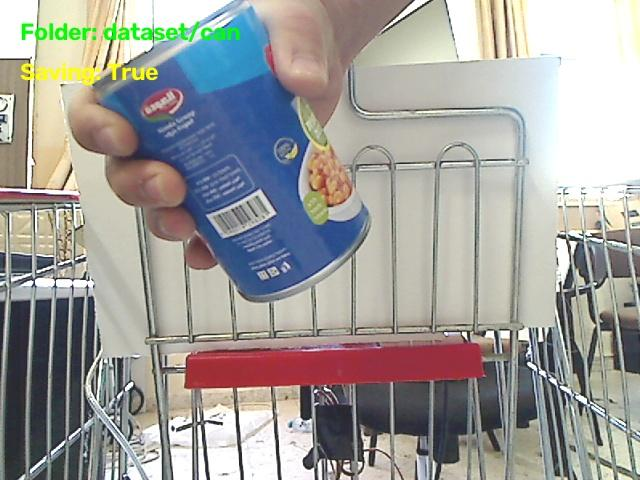can: (94, 0, 369, 301)
